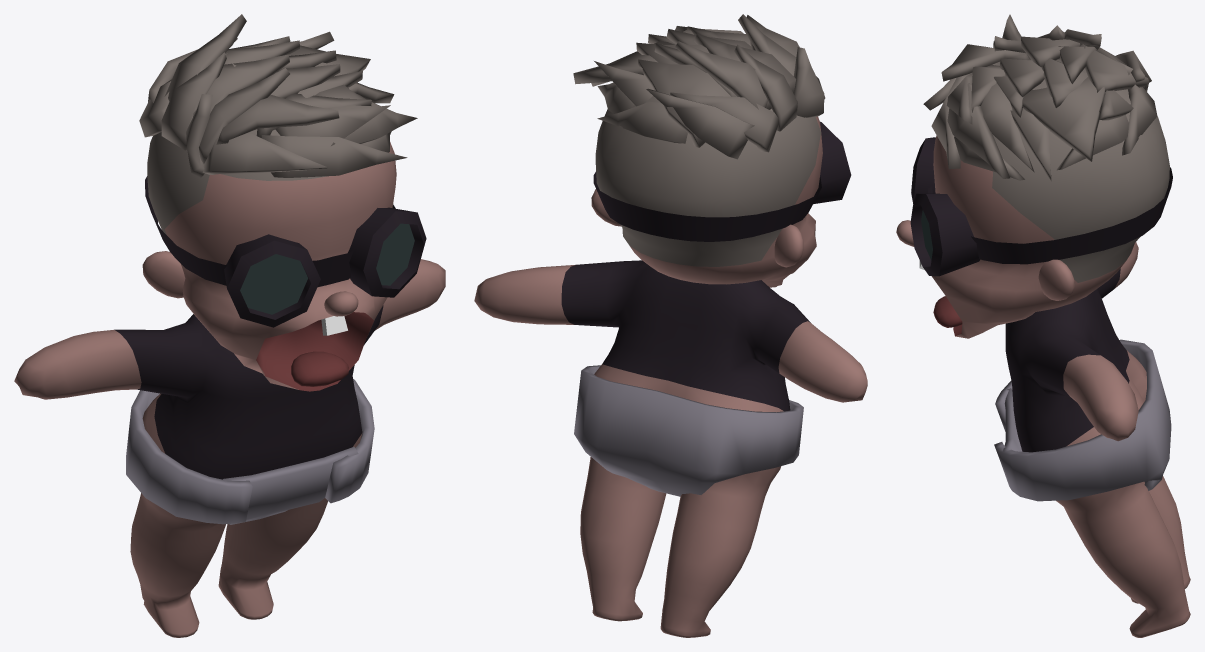
File: FeedMinigame Baby.fbx
3 views of the same model, side by side, from view 1: azimuth 30°, elevation 25°; view 2: azimuth 150°, elevation 25°; view 3: azimuth 270°, elevation 25° (orthographic). The views are drawn at different scales.
Visible parts, largest first — view 1: Baby; view 2: Baby; view 3: Baby.
Boxes of the visible parts, x1,y1,x2,y2 form: Baby: (14,14,445,637); Baby: (474,14,867,637); Baby: (896,14,1190,637).
Size of the model in its own units: 160 by 225 by 103.
